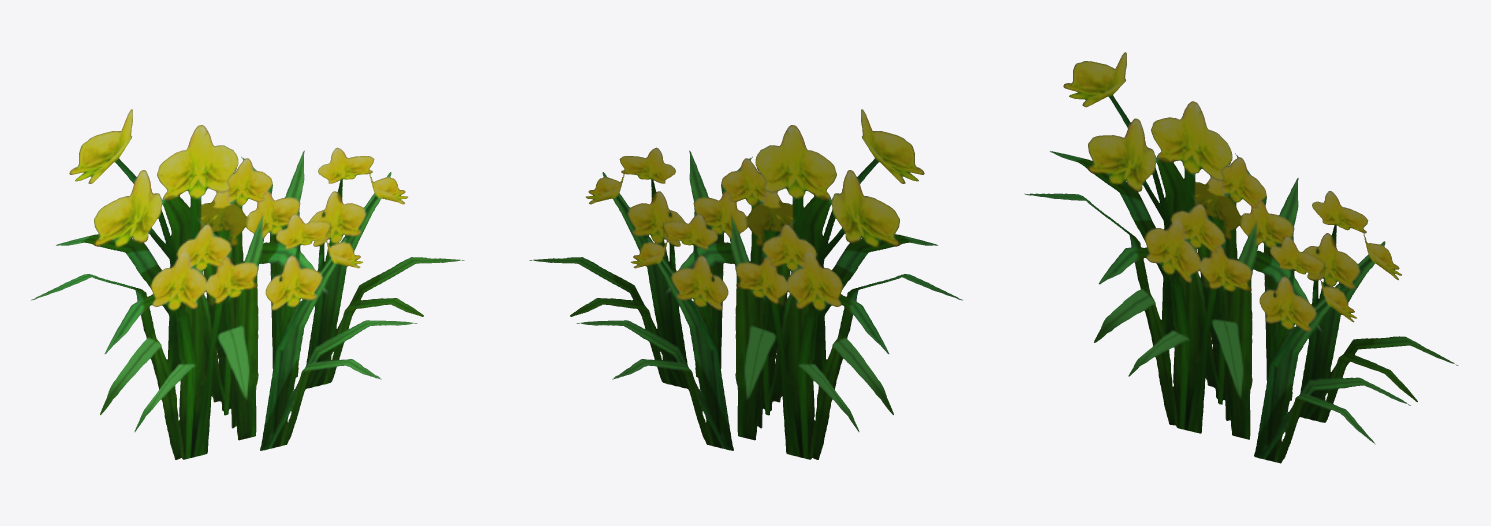
3 views of the same model, side by side, from view 1: azimuth 30°, elevation 25°; view 2: azimuth 150°, elevation 25°; view 3: azimuth 330°, elevation 25° (orthographic).
Parts seen in each view (by area): view 1: 草丛008; view 2: 草丛008; view 3: 草丛008.
Boxes of the visible parts, x1=… form: 草丛008: x1=31, y1=109, x2=464, y2=459; 草丛008: x1=529, y1=109, x2=962, y2=459; 草丛008: x1=1024, y1=52, x2=1458, y2=463.
Size of the model in its own units: 171 by 134 by 1.41e-05.
Materials: 1 (1 with a texture image).
